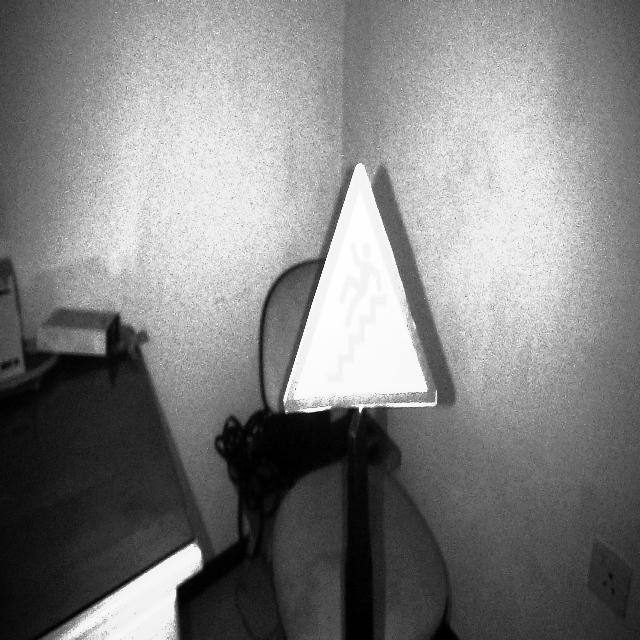Sign: (281, 162, 439, 414)
